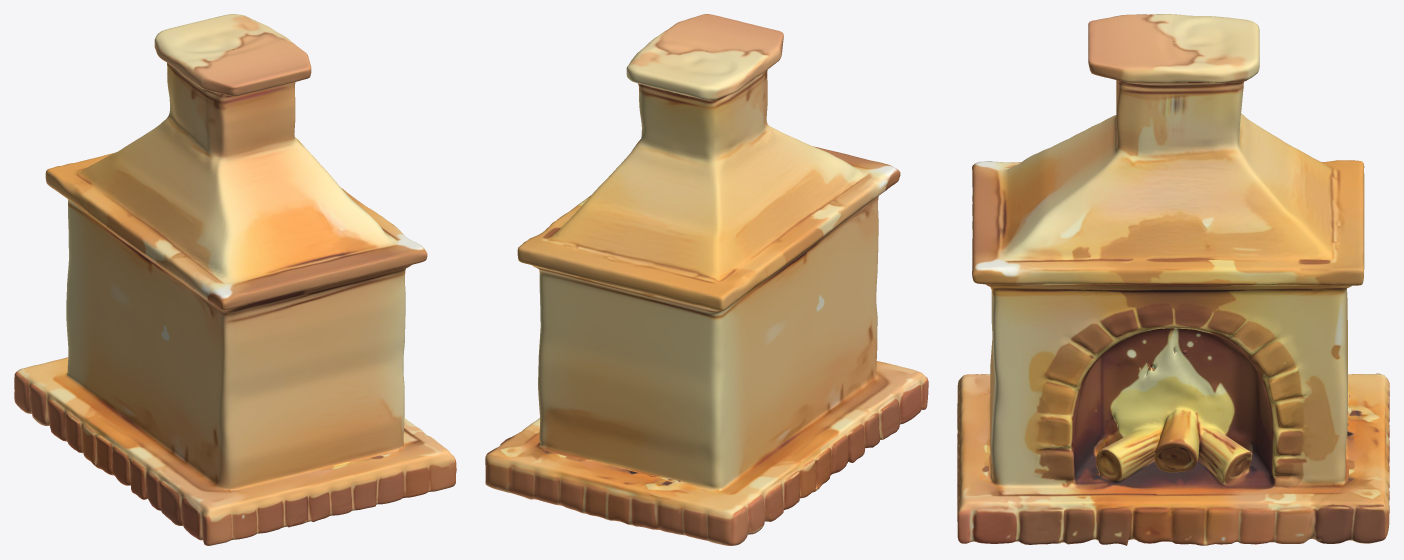
Rendered from chimenea+3d+modelo.fbx.
3 views of the same model, side by side, from view 1: azimuth 30°, elevation 25°; view 2: azimuth 150°, elevation 25°; view 3: azimuth 270°, elevation 25° (orthographic). The views are drawn at different scales.
Parts seen in each view (by area): view 1: tripo_node_848bf9b8; view 2: tripo_node_848bf9b8; view 3: tripo_node_848bf9b8.
Part boxes in pixels (x1,y1,x2,y2): tripo_node_848bf9b8: (14, 14, 456, 545); tripo_node_848bf9b8: (485, 14, 928, 545); tripo_node_848bf9b8: (957, 14, 1389, 545).
Size of the model in its own units: 0.6555 by 0.9998 by 0.8925.
Materials: 1 (1 with a texture image).
